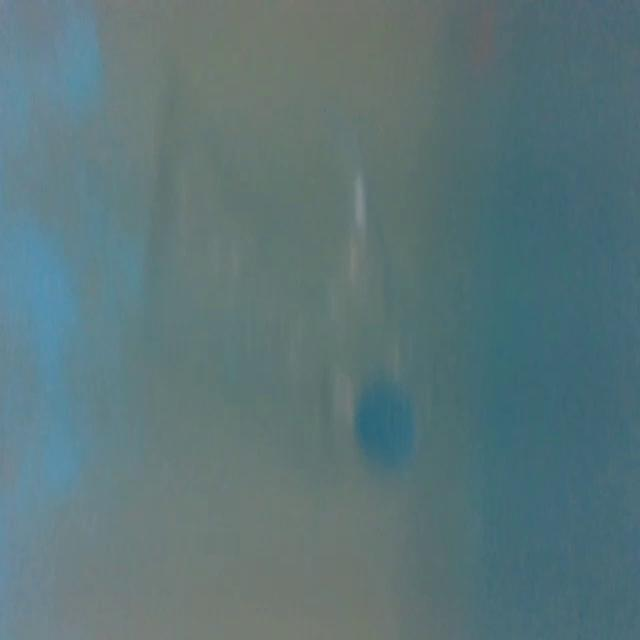plastic bottle: (258, 113, 420, 480)
